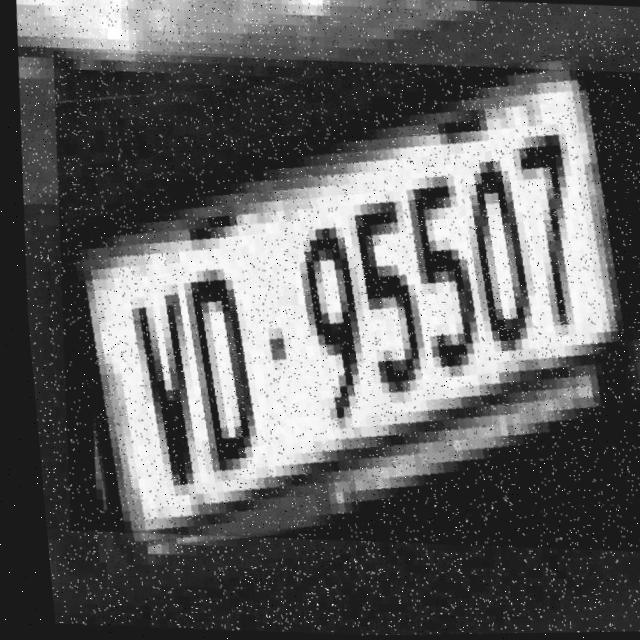LicensePlate: (28, 44, 640, 562)
